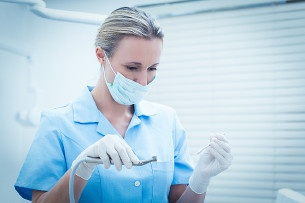Mask: (112, 55, 162, 104)
